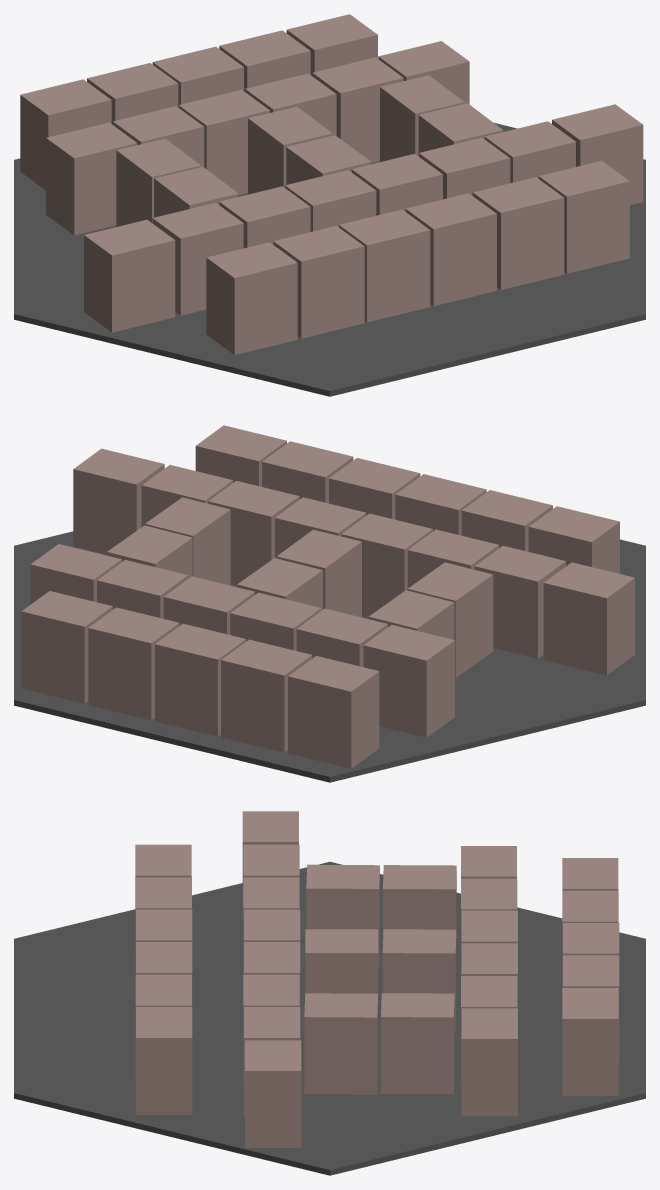
Rendered from Tile Mietskaserne.glb.
The picture shows the model from 3 angles, top to bottom: view 1: azimuth 30°, elevation 25°; view 2: azimuth 150°, elevation 25°; view 3: azimuth 270°, elevation 25°; orthographic projection.
Visible parts, largest first — view 1: Tile Mietskaserne, Cube.016, Cube.042, Cube.034, Cube.015, Cube.012, Cube.014, Cube.013, Cube.017, Cube.022, Cube.040, Cube.041 (+20 smaller); view 2: Tile Mietskaserne, Cube.040, Cube.042, Cube.034, Cube.039, Cube.036, Cube.038, Cube.037, Cube.041, Cube.022, Cube.029, Cube.021 (+20 smaller); view 3: Tile Mietskaserne, Cube.024, Cube.028, Cube.035, Cube.017, Cube.039, Cube.041, Cube.025, Cube.029, Cube.026, Cube.027, Cube.042 (+20 smaller).
Part boxes in pixels (x1=…): Tile Mietskaserne: x1=14, y1=123, x2=645, y2=396; Cube.016: x1=206, y1=242, x2=297, y2=355; Cube.042: x1=84, y1=219, x2=175, y2=332; Cube.034: x1=46, y1=122, x2=137, y2=235; Cube.015: x1=472, y1=177, x2=564, y2=289; Cube.012: x1=273, y1=225, x2=364, y2=338; Cube.014: x1=405, y1=193, x2=496, y2=306; Cube.013: x1=339, y1=209, x2=430, y2=322; Cube.017: x1=538, y1=160, x2=629, y2=273; Cube.022: x1=152, y1=202, x2=243, y2=315; Cube.040: x1=20, y1=79, x2=111, y2=190; Cube.041: x1=552, y1=104, x2=643, y2=204; Tile Mietskaserne: x1=14, y1=531, x2=645, y2=782; Cube.040: x1=288, y1=655, x2=379, y2=768; Cube.042: x1=543, y1=562, x2=634, y2=675; Cube.034: x1=363, y1=625, x2=454, y2=737; Cube.039: x1=21, y1=591, x2=112, y2=703; Cube.036: x1=221, y1=639, x2=312, y2=752; Cube.038: x1=88, y1=607, x2=179, y2=720; Cube.037: x1=155, y1=623, x2=246, y2=736; Cube.041: x1=73, y1=448, x2=164, y2=554; Cube.022: x1=474, y1=545, x2=565, y2=658; Cube.029: x1=407, y1=562, x2=493, y2=677; Cube.021: x1=208, y1=481, x2=299, y2=585; Tile Mietskaserne: x1=14, y1=861, x2=645, y2=1175; Cube.024: x1=304, y1=993, x2=378, y2=1094; Cube.028: x1=381, y1=993, x2=454, y2=1094; Cube.035: x1=461, y1=1008, x2=517, y2=1116; Cube.017: x1=136, y1=1007, x2=192, y2=1114; Cube.039: x1=562, y1=988, x2=618, y2=1095; Cube.041: x1=245, y1=1040, x2=301, y2=1147; Cube.025: x1=382, y1=929, x2=456, y2=1030; Cube.029: x1=306, y1=864, x2=379, y2=965; Cube.026: x1=383, y1=865, x2=456, y2=947; Cube.027: x1=305, y1=929, x2=378, y2=993; Cube.042: x1=242, y1=811, x2=298, y2=918.
Bounding box in the file's own units: 20 × 2.5 × 17.32.
